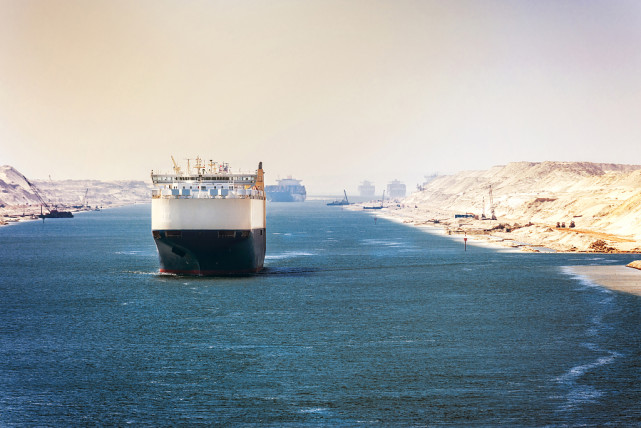Cargoship: (145, 157, 270, 277)
